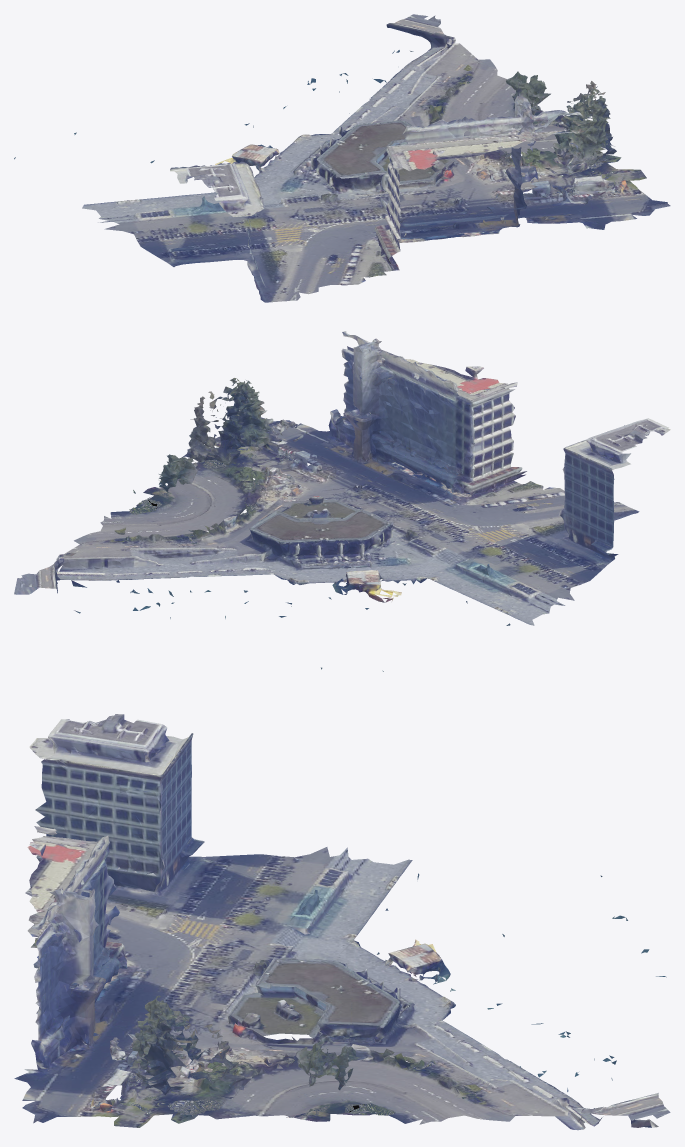
The picture shows the model from 3 angles, top to bottom: view 1: azimuth 30°, elevation 25°; view 2: azimuth 150°, elevation 25°; view 3: azimuth 270°, elevation 25°; orthographic projection. The views are drawn at different scales.
Bounding box in the file's own units: 108 × 31.38 × 106.
Materials: 1 (1 with a texture image).
